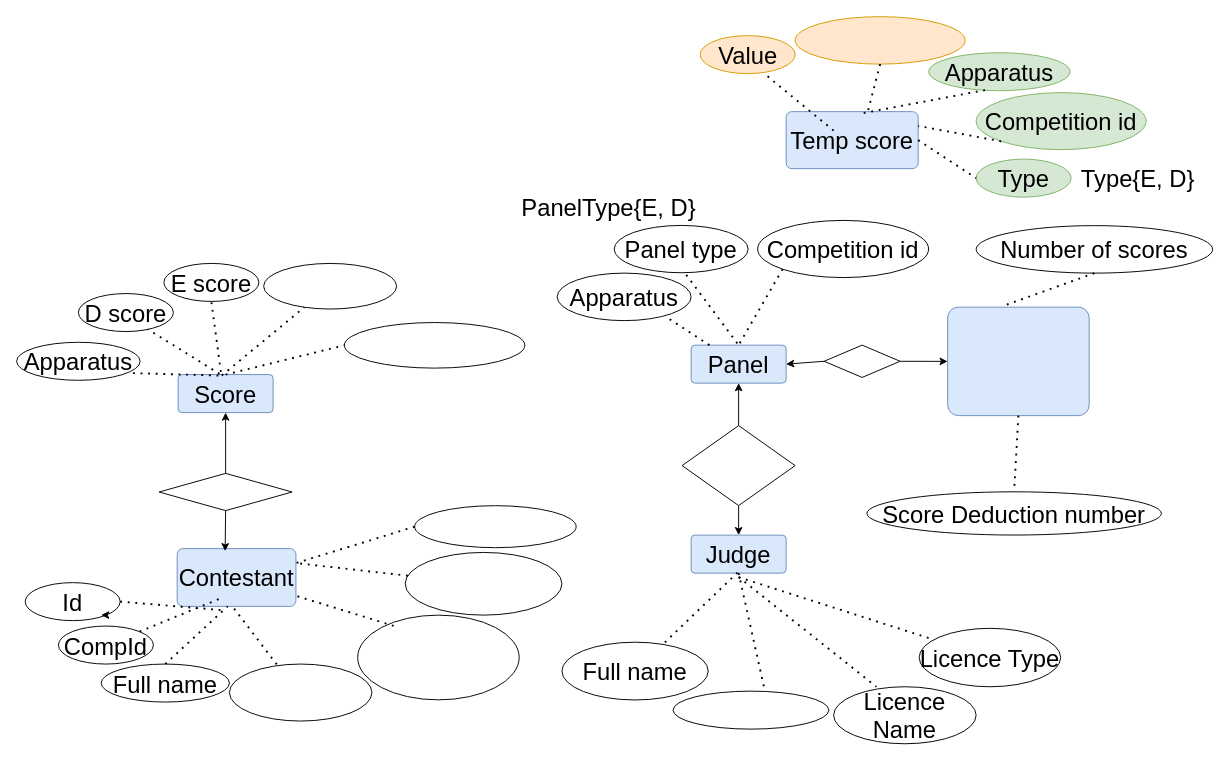
This 1229x761 diagram has some shape labels left out. Each missing label, with the box of its shape:
ageCategory: (414, 505, 576, 548)
Competing apparatuses: (357, 614, 519, 700)
CompetitionId: (343, 322, 525, 368)
Contestant id: (794, 16, 965, 64)
has: (823, 344, 900, 377)
judges: (681, 425, 795, 506)
Ogranisation: (672, 690, 829, 729)
Ogranization: (228, 663, 372, 721)
Score calculation method: (947, 306, 1089, 416)
scores: (158, 472, 292, 511)
teamNumber: (404, 551, 562, 615)
Total score: (263, 262, 397, 309)
